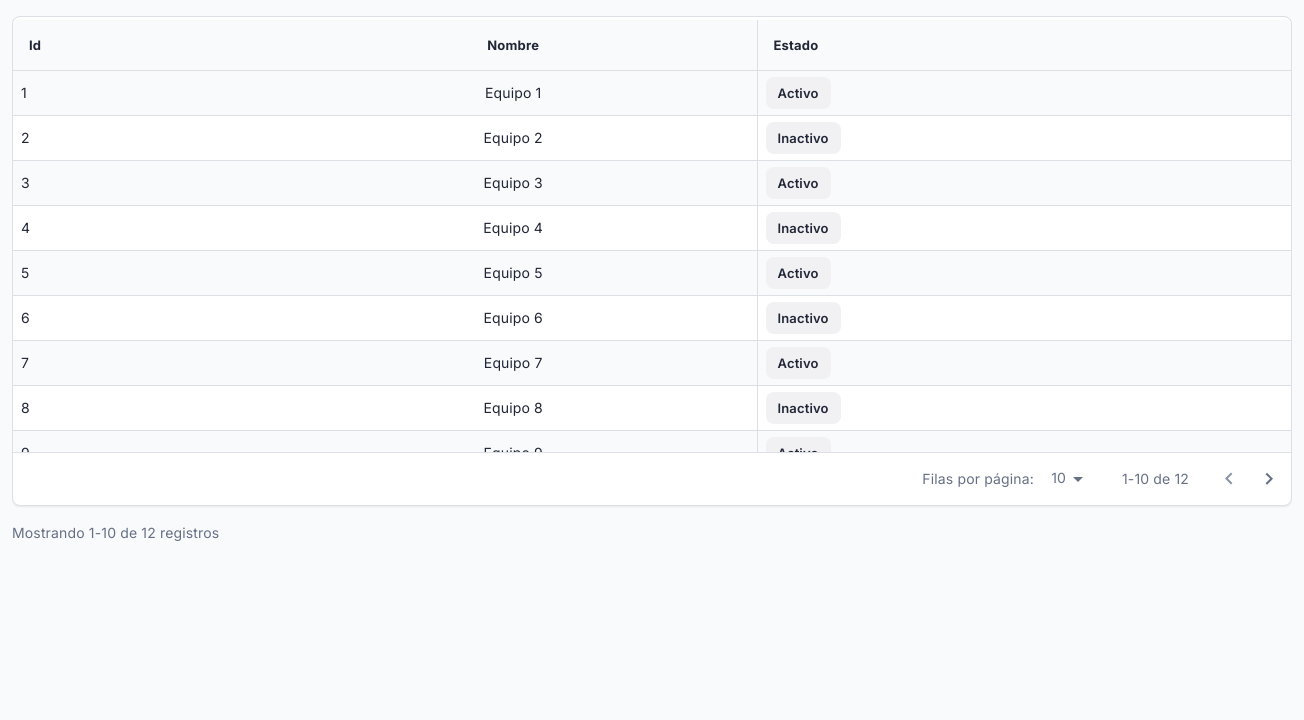
Test case: DataTable (vista=1) › cambia de página y de filas por página
Click the button named "next page".
click(1269, 479)  # box [1249, 459, 1289, 499]
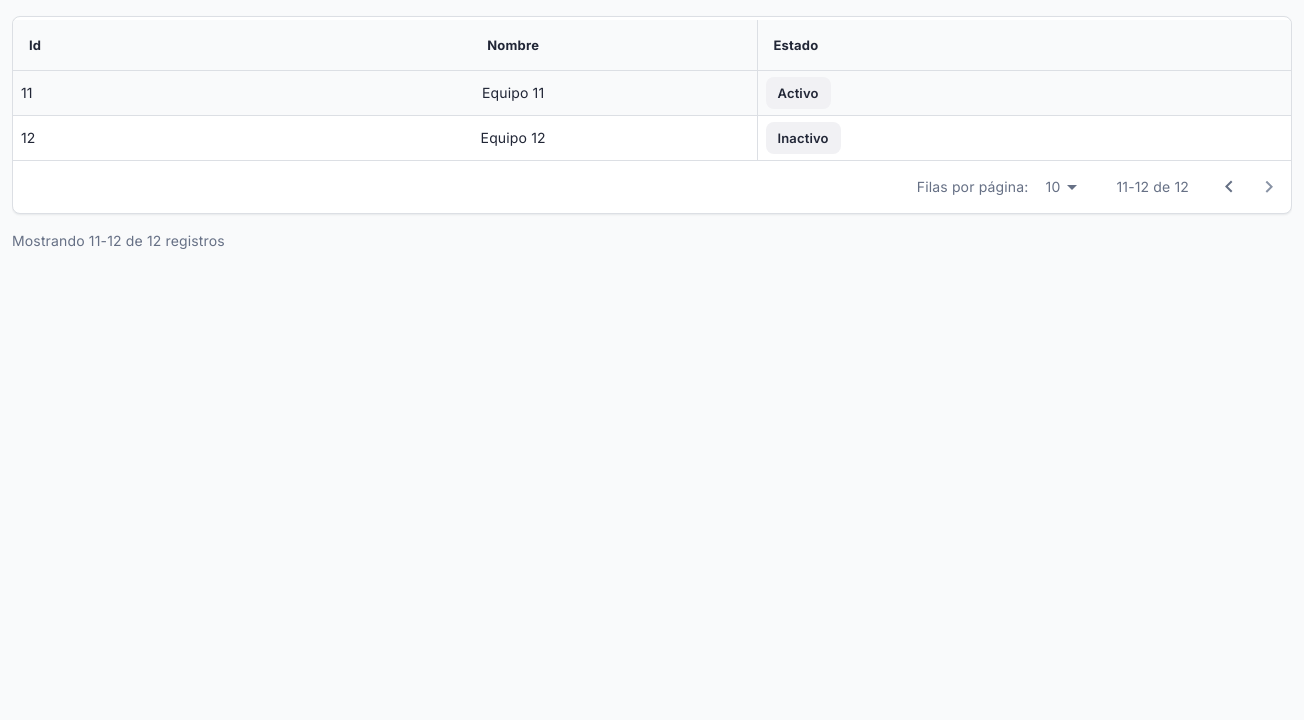
Check: the text "Mostrando 11-12 de 12 registros" is shown, box [12, 232, 225, 249]
Click the dropdown named "Filas por página".
click(1053, 186)  # box [1046, 178, 1060, 195]
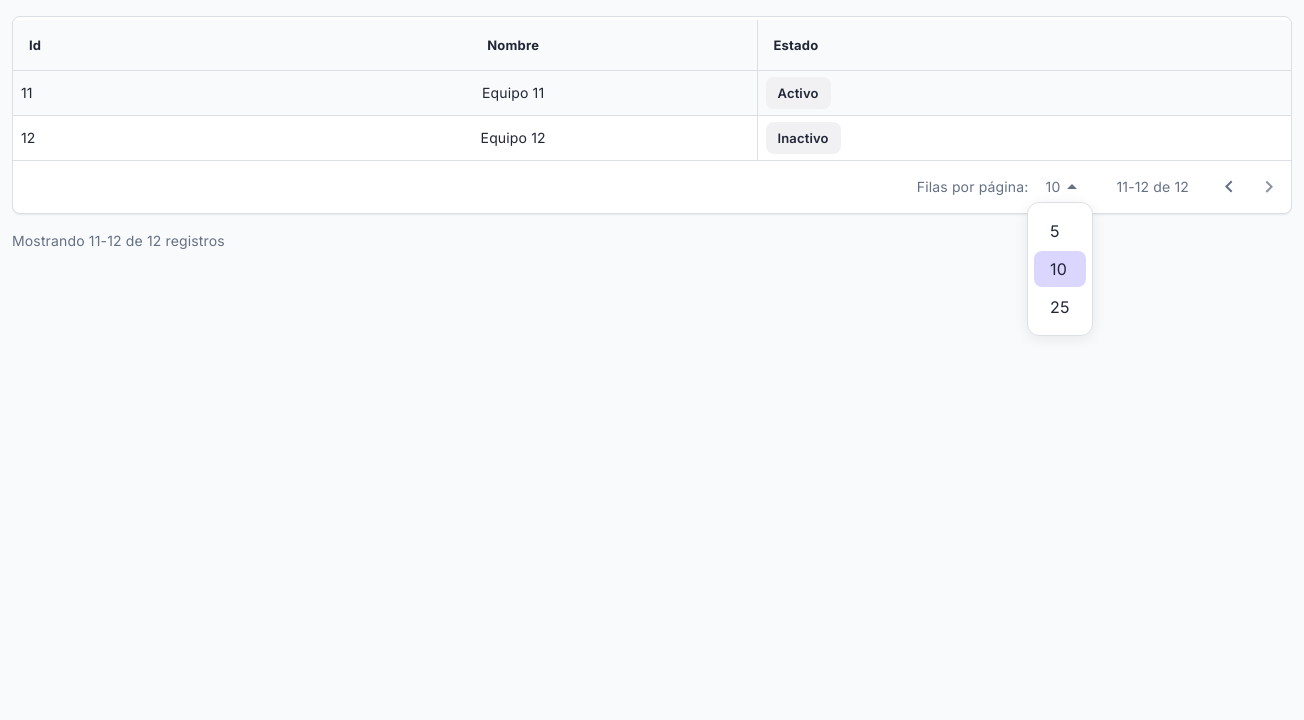
Click the option "5".
click(1055, 231)  # box [1050, 221, 1060, 241]
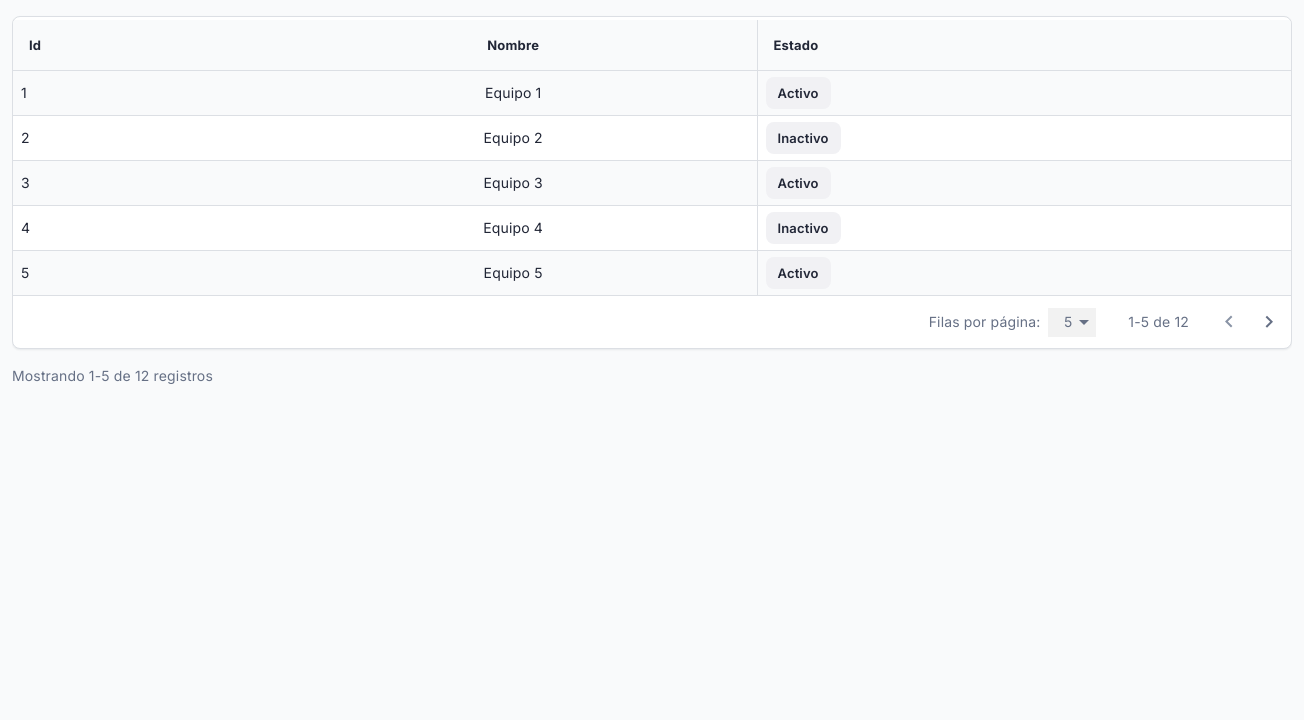
Check: the text "Mostrando 1-5 de 12 registros" is shown, box [12, 367, 213, 384]
